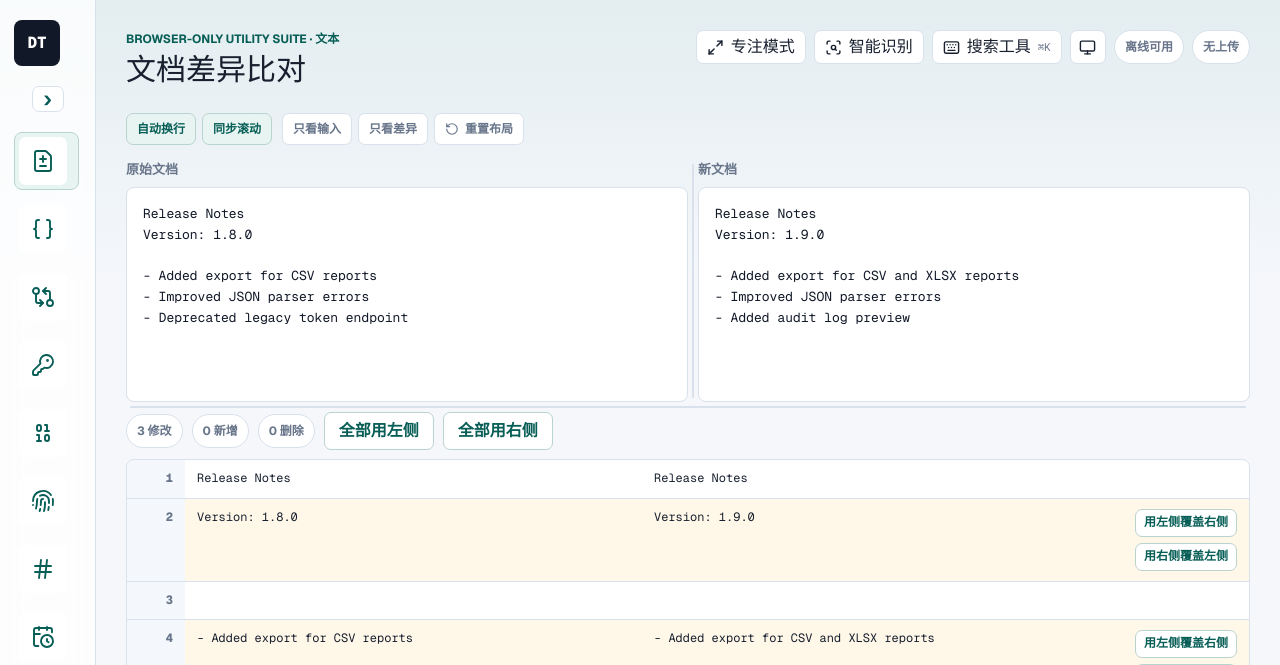
workbench keyboard and theme interactions › uses distinct icons for system, light and dark themes
Expected: the icon with class "lucide-monitor" is shown, left=1080, top=38, right=1096, bottom=56
Click the button named "当前主题：system": (1088, 47) left=1070, top=30, right=1106, bottom=64
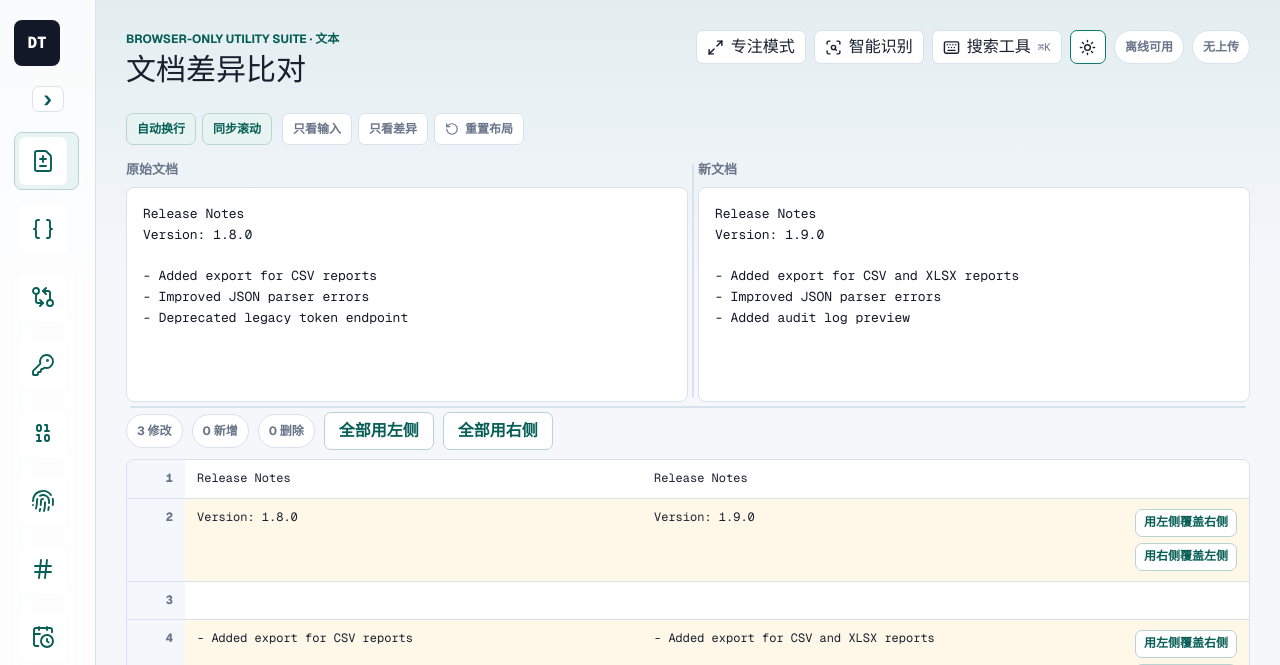
Result: the icon with class "lucide-sun" is shown at left=1080, top=38, right=1096, bottom=56
Click the button named "当前主题：light": (1088, 47) left=1070, top=30, right=1106, bottom=64
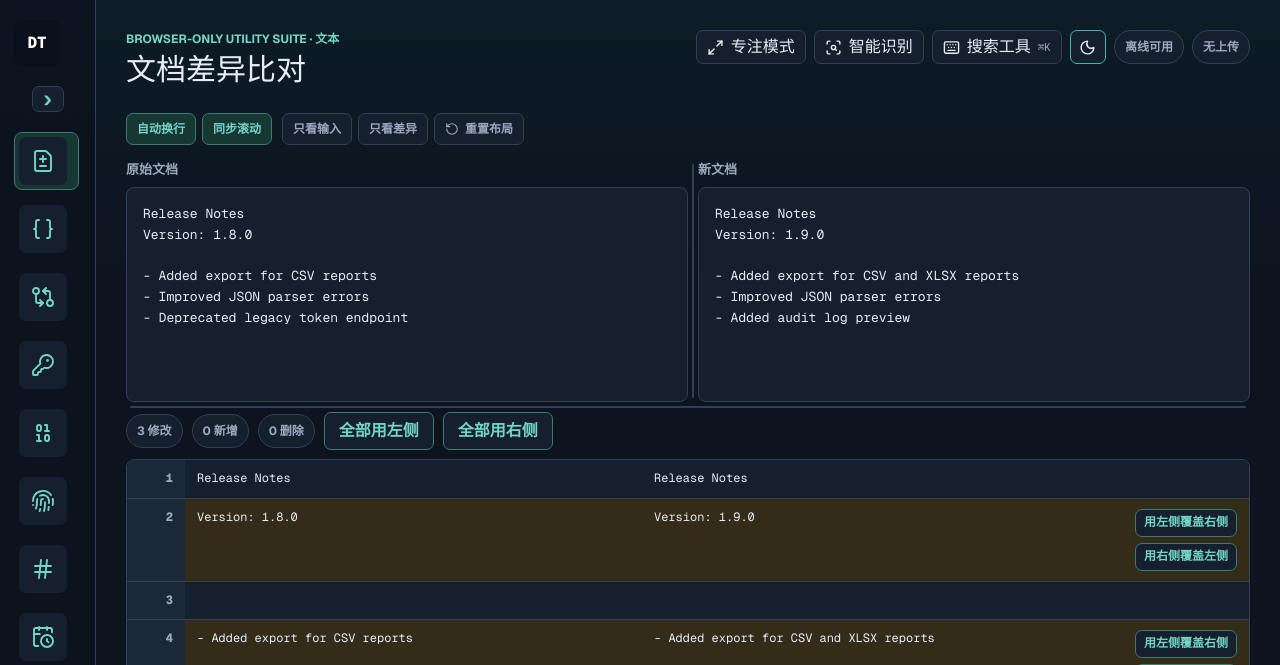
Result: the icon with class "lucide-moon" is shown at left=1080, top=38, right=1096, bottom=56
